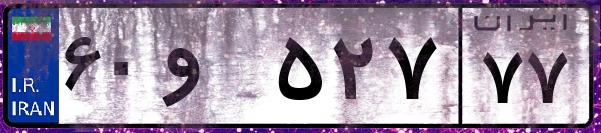0: (110, 28, 158, 98)
2: (330, 28, 385, 110)
5: (270, 28, 330, 110)
6: (57, 26, 110, 100)
7: (385, 28, 445, 110), (475, 38, 525, 113), (525, 38, 570, 115)
و: (158, 20, 270, 120)
